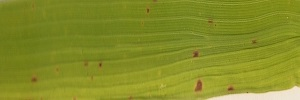RiceBrownSpot: (193, 78, 236, 94), (28, 75, 44, 86), (190, 49, 201, 59)
